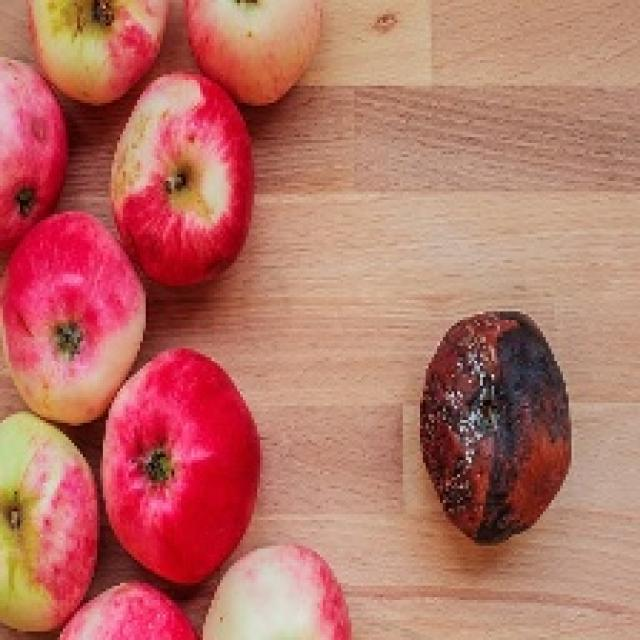rotten_apple: (426, 313, 570, 537)
